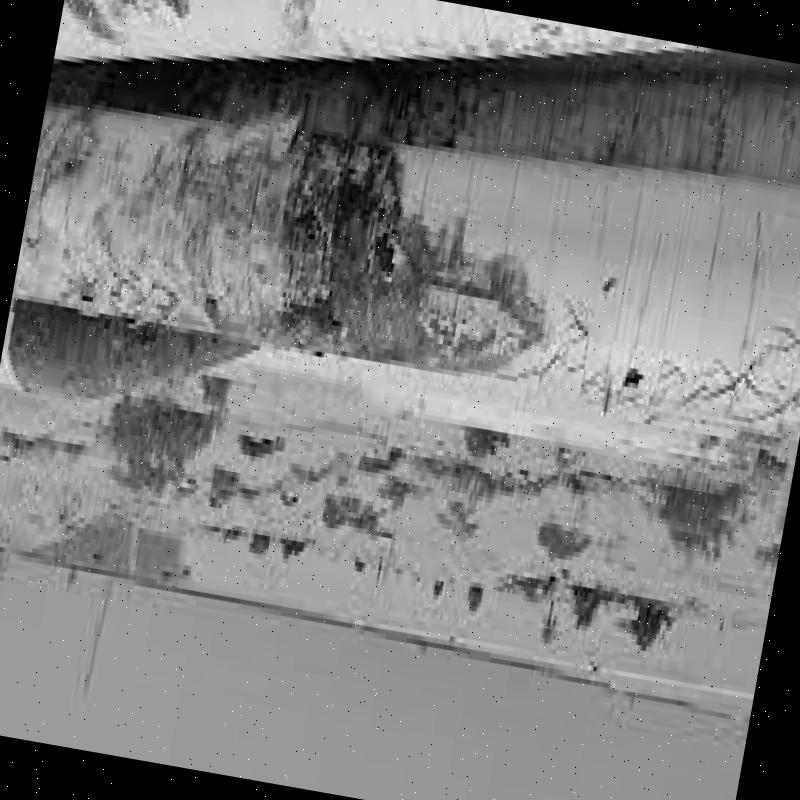corrosion: (265, 38, 566, 404)
